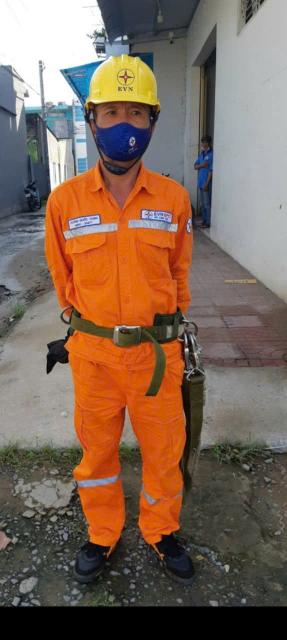harness: (57, 295, 204, 362)
helmet: (78, 44, 171, 115)
shoes: (138, 523, 217, 588), (69, 521, 133, 590)
